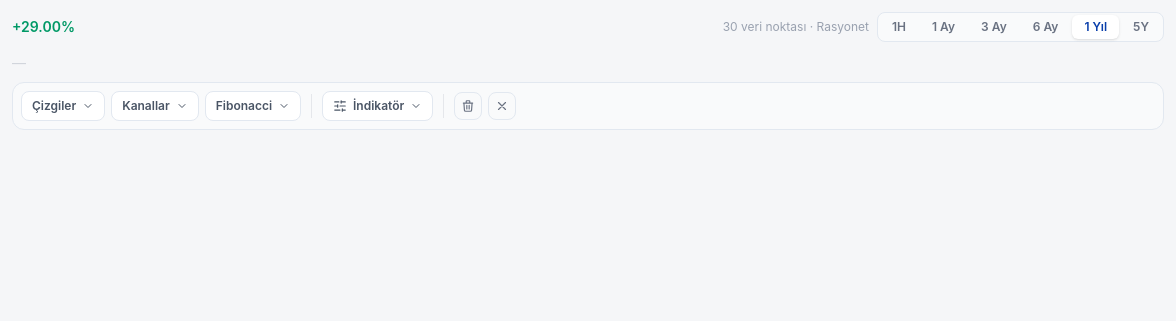
it: TefasPriceChart (Vitest + @testing-library/react, jsdom) › indikatör / çizim etkileşimi › çizim grubu (Çizgiler) açılınca alt araçları (Düz Çizgi vb.) listeler
The width and height of the screenshot is (1176, 321).
What coordinates should you click on to do the following:
click the button "Çizgiler"
I would click on:
 (63, 106)
Its box is x1=21 y1=91 x2=105 y2=121.
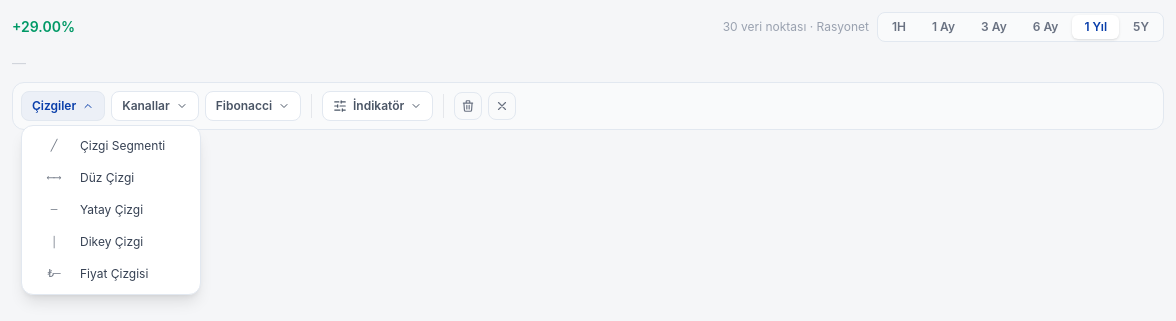
Expected: the text "Çizgi Segmenti" is shown, x1=80 y1=138 x2=165 y2=154
Expected: the text "Düz Çizgi" is shown, x1=80 y1=170 x2=134 y2=186
Expected: the text "Yatay Çizgi" is shown, x1=80 y1=202 x2=143 y2=218
